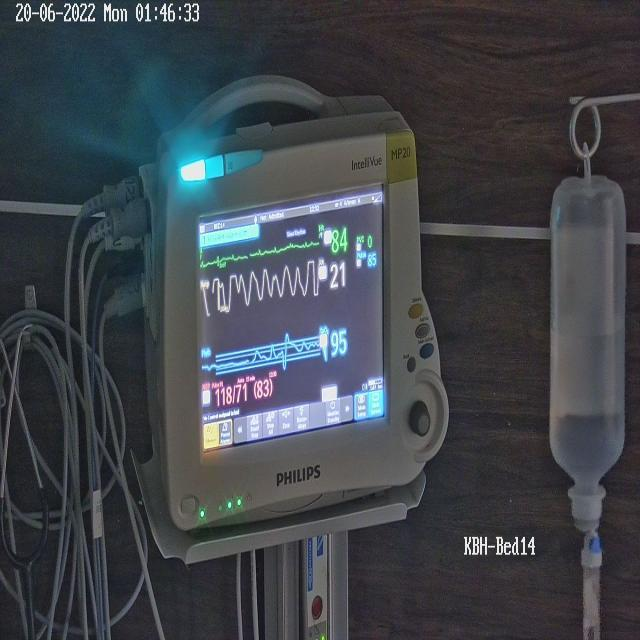Monitor: (146, 79, 442, 578)
Saline Stand: (533, 67, 640, 640)
